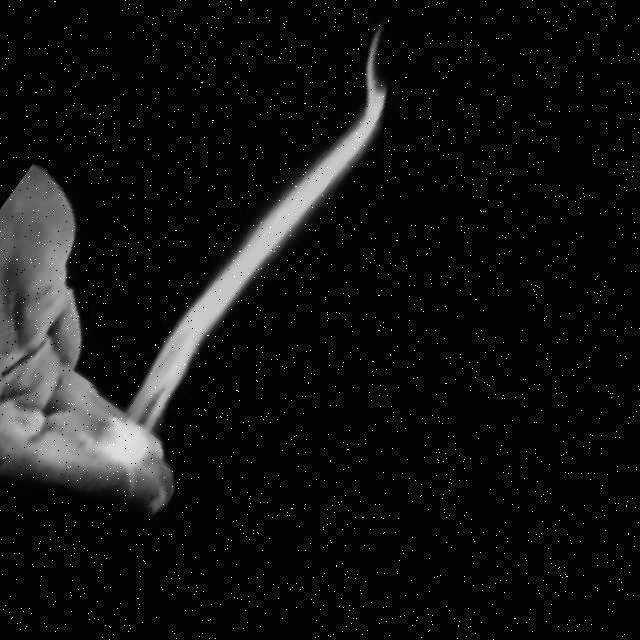Fire: (70, 7, 454, 492)
